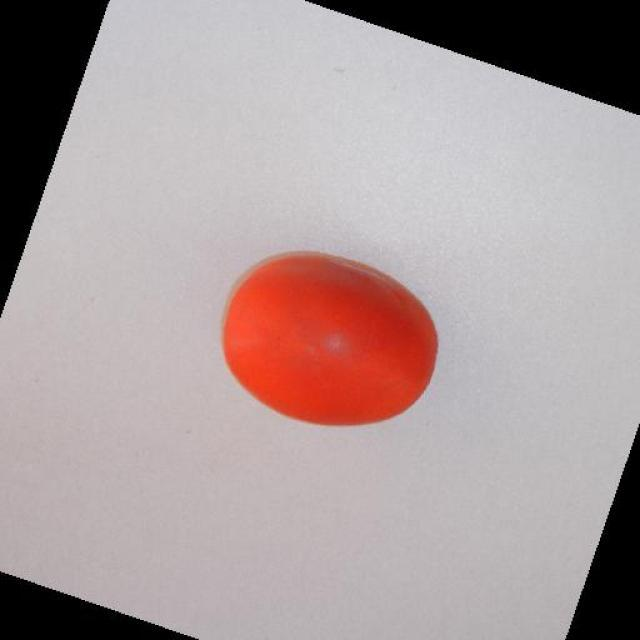Fresh Tomato: (200, 205, 457, 478)
